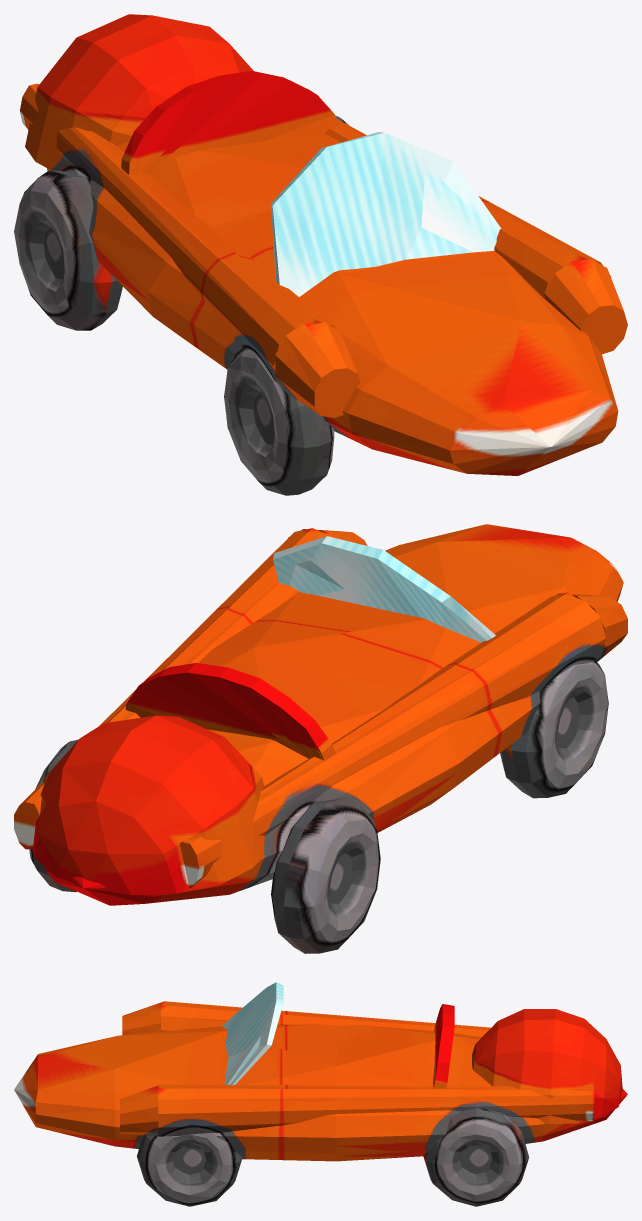
Rendered from SportCar.glb.
3 views of the same model, one above another, from view 1: azimuth 30°, elevation 25°; view 2: azimuth 150°, elevation 25°; view 3: azimuth 270°, elevation 25° (orthographic). The views are drawn at different scales.
Visible parts, largest first — view 1: SportCar; view 2: SportCar; view 3: SportCar.
Part boxes in pixels (x1=…): SportCar: x1=14, y1=14, x2=627, y2=495; SportCar: x1=14, y1=524, x2=627, y2=953; SportCar: x1=14, y1=982, x2=627, y2=1206.
Bounding box in the file's own units: 86.91 × 66.86 × 214.
1 material, 1 textured.
